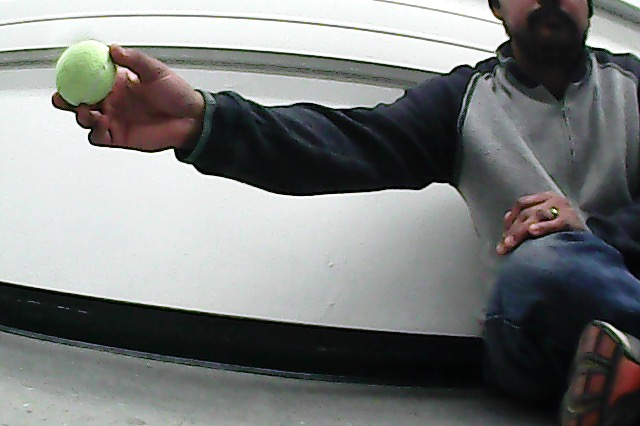ball: (53, 37, 120, 112)
